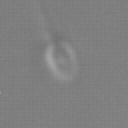normal: (30, 1, 60, 42)
